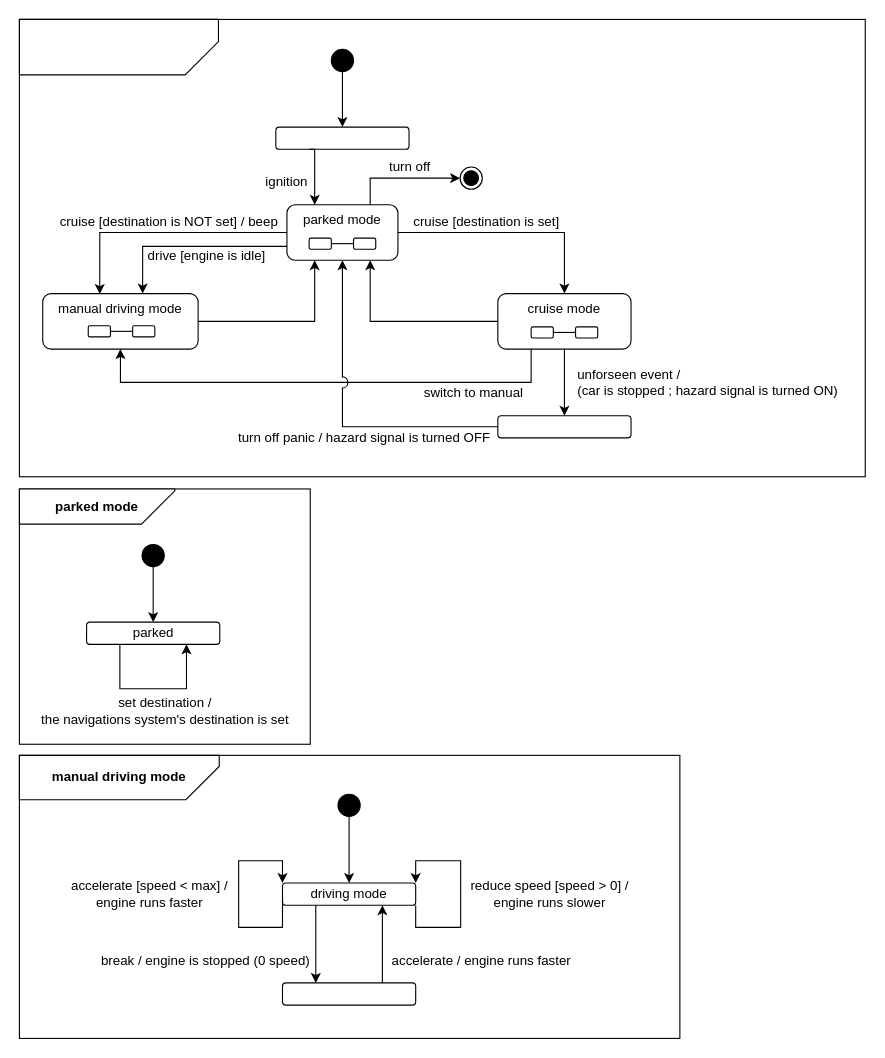
Image size: 885x1058. Some labels were removed from this diagram. Here are the shapes that lost their labels. From the top down, the box of each, then its label:
(18, 18, 218, 75): autonomous car
(275, 126, 409, 149): idle
(497, 415, 631, 438): panic mode
(281, 982, 416, 1005): break mode
